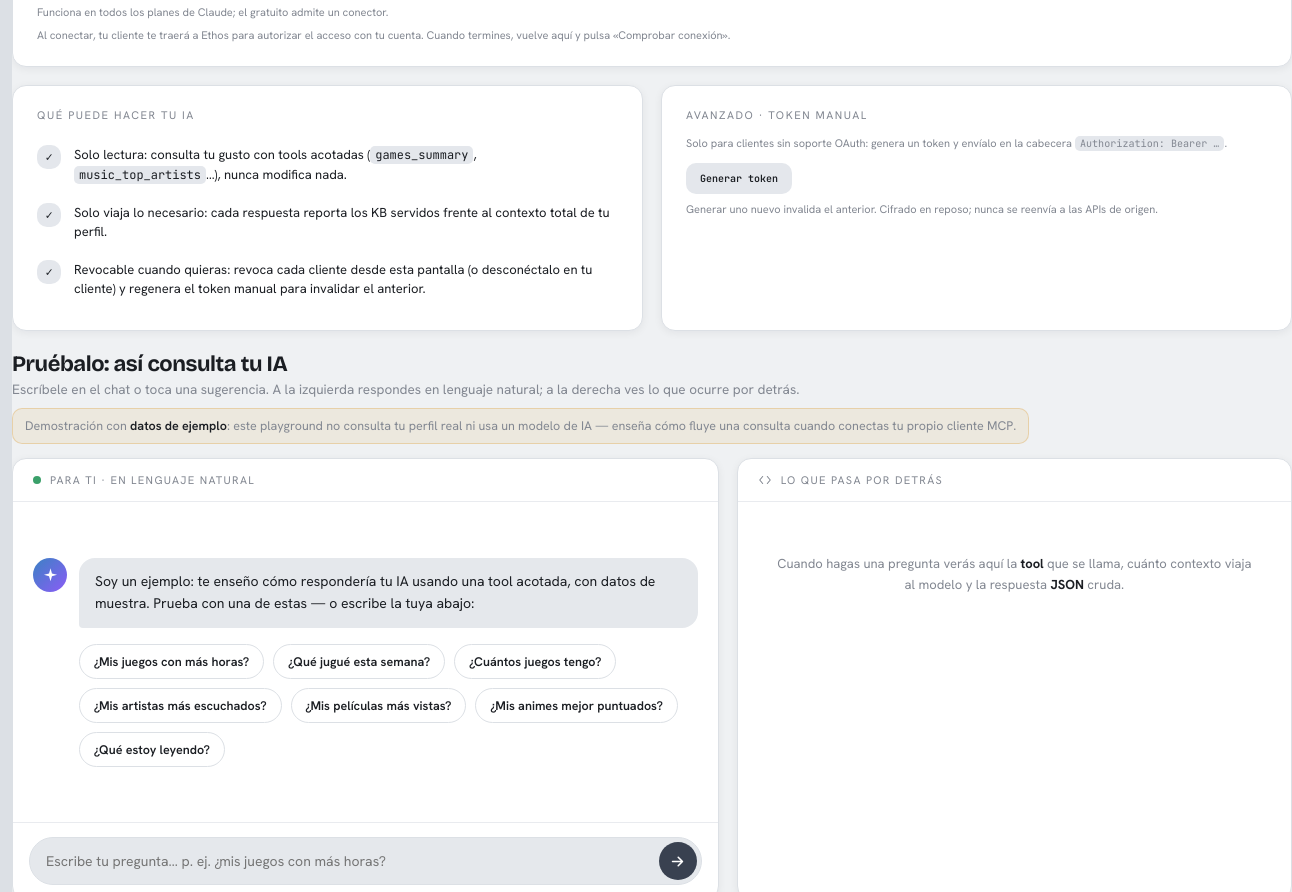
Test: ConnectAi › responde a una consulta y muestra el panel técnico
This screenshot has width=1292, height=892.
(page scrolled)
Click the button "¿Mis juegos con más horas?". click: [172, 661]
box: [79,644,264,679]
Wait 800 ms
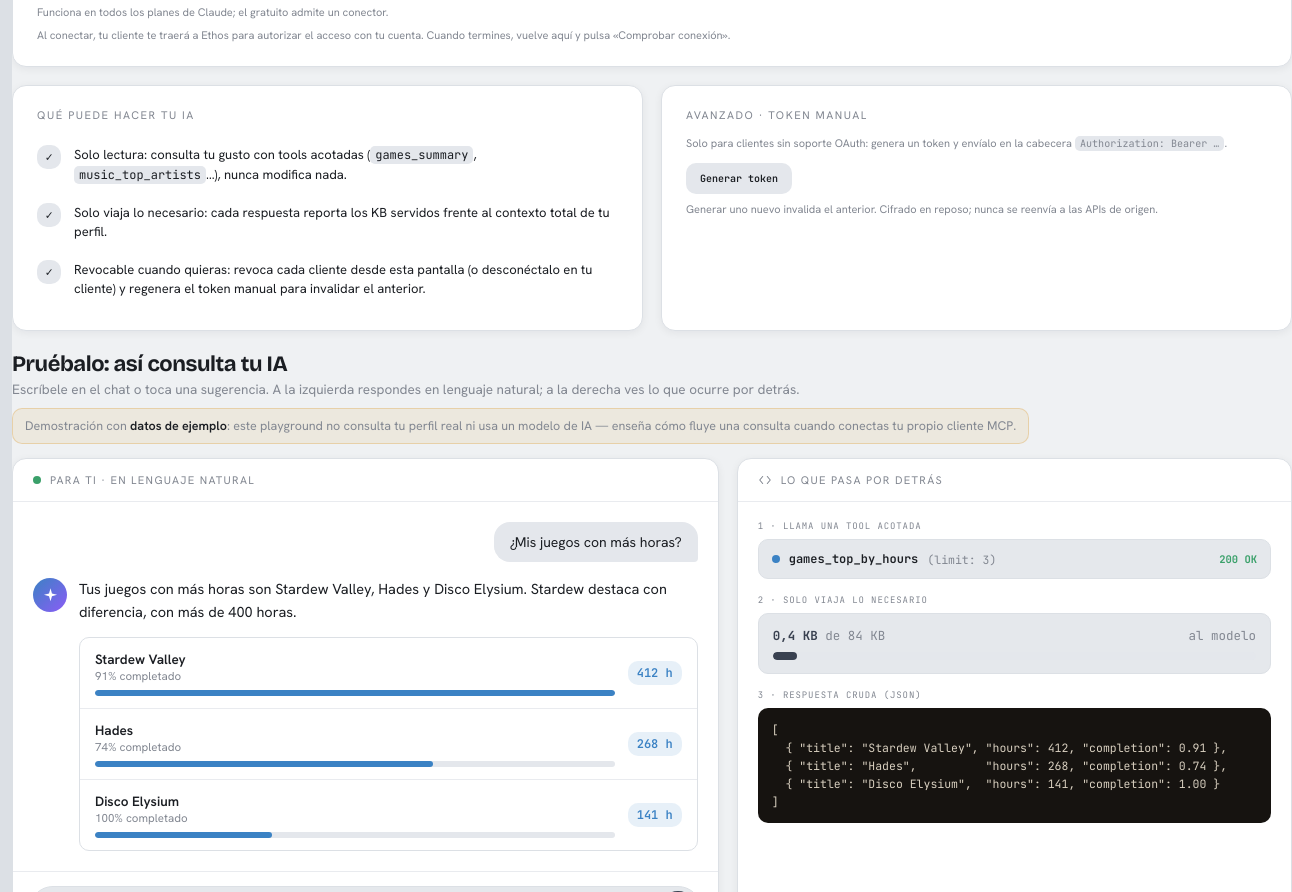
Expected: the text "games_top_by_hours" is shown, [789,551,918,567]
Expected: the text "Stardew Valley" is shown, [79,579,667,621]
Expected: the text "200 OK" is shown, [1219,552,1257,566]
